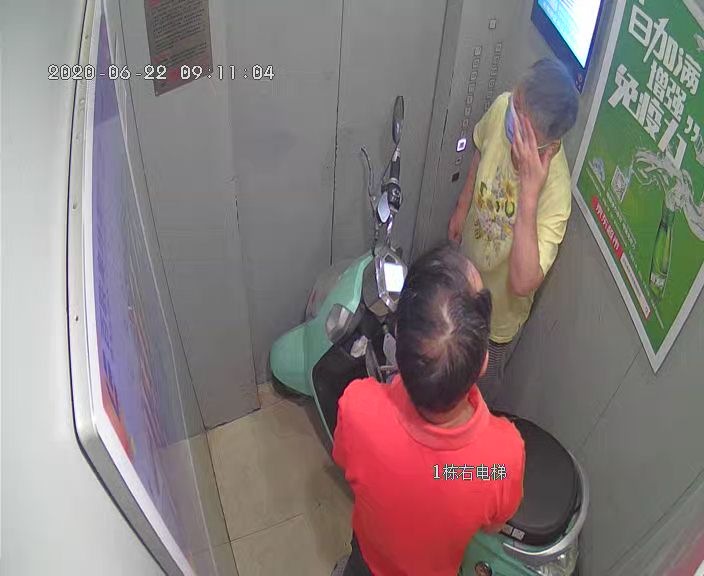Electric-bicycle: (269, 89, 592, 572)
